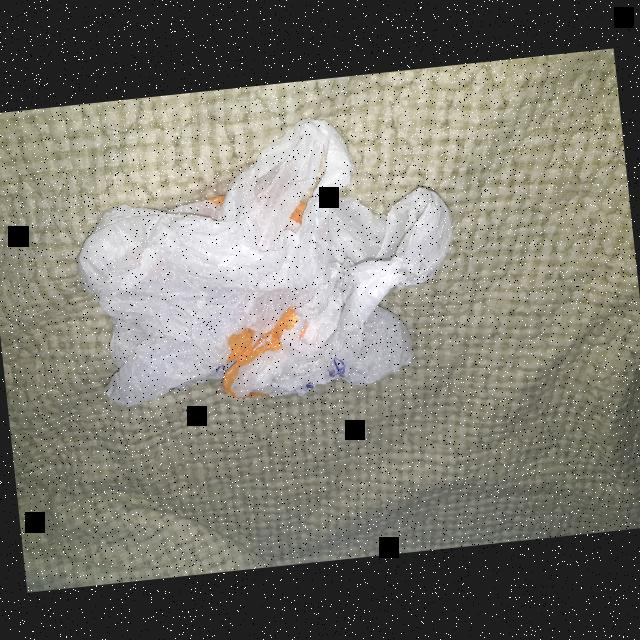plastic_bag: (46, 100, 482, 432)
